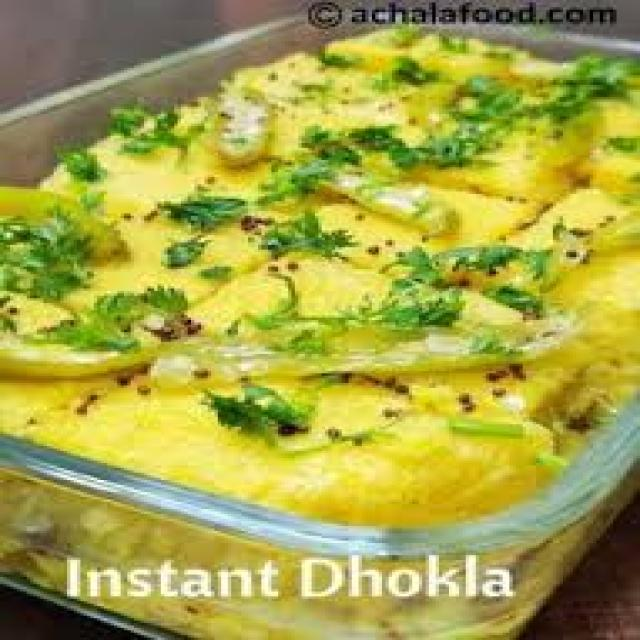DHOKLA: (0, 24, 637, 638)
